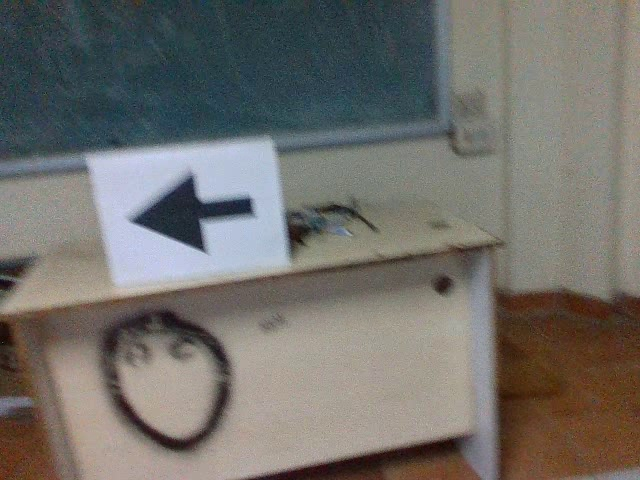Left: (118, 165, 256, 259)
